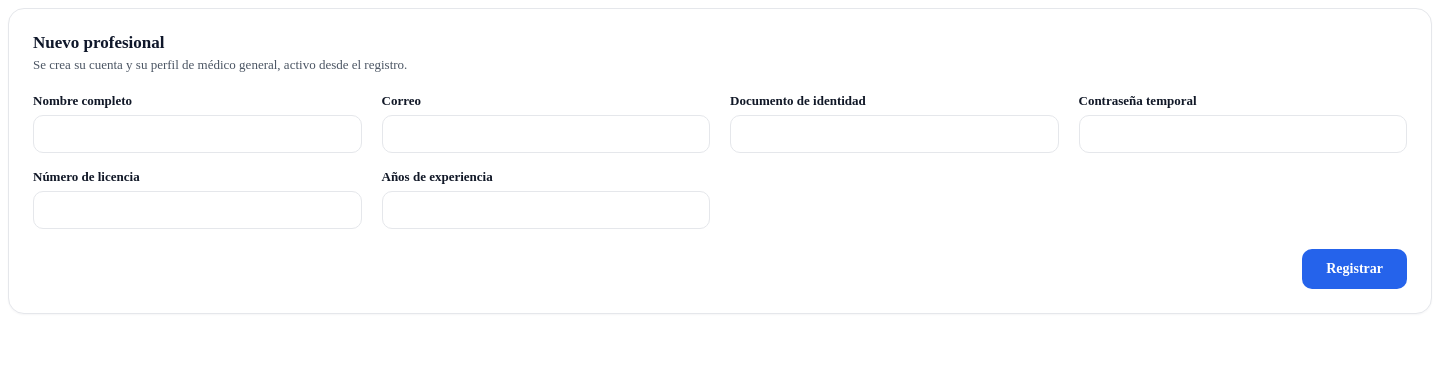
Test: RegisterProfessionalFormComponent › shows a conflict or an unavailable identity service with its reference
Type "Ana Gómez" into the field labelled "Nombre completo" at [197, 134], box [33,115,362,153]
Type "ana@telemed.test" into the field labelled "Correo" at [546, 134], box [382,115,710,153]
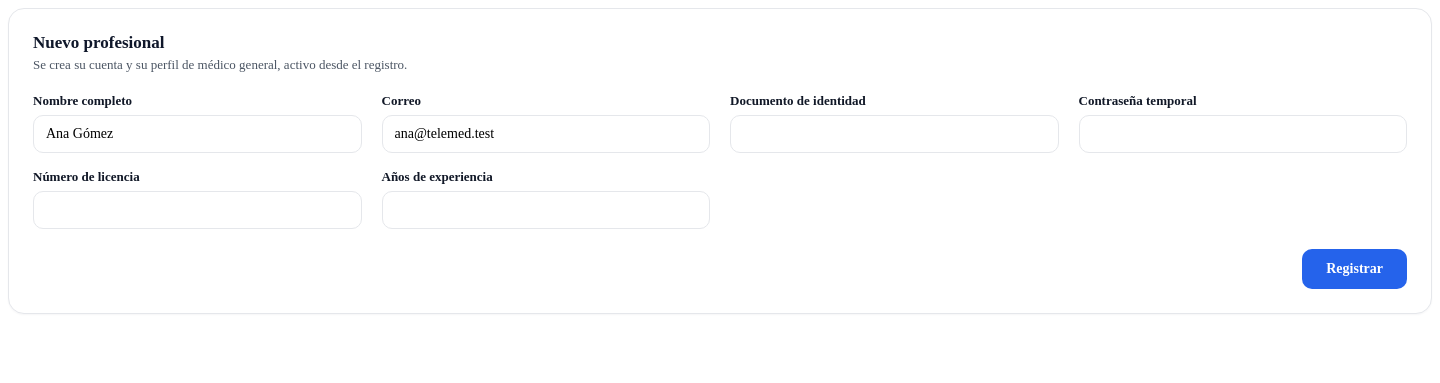
Type "1075000001" into the field labelled "Documento de identidad" at [894, 134], box [730,115,1058,153]
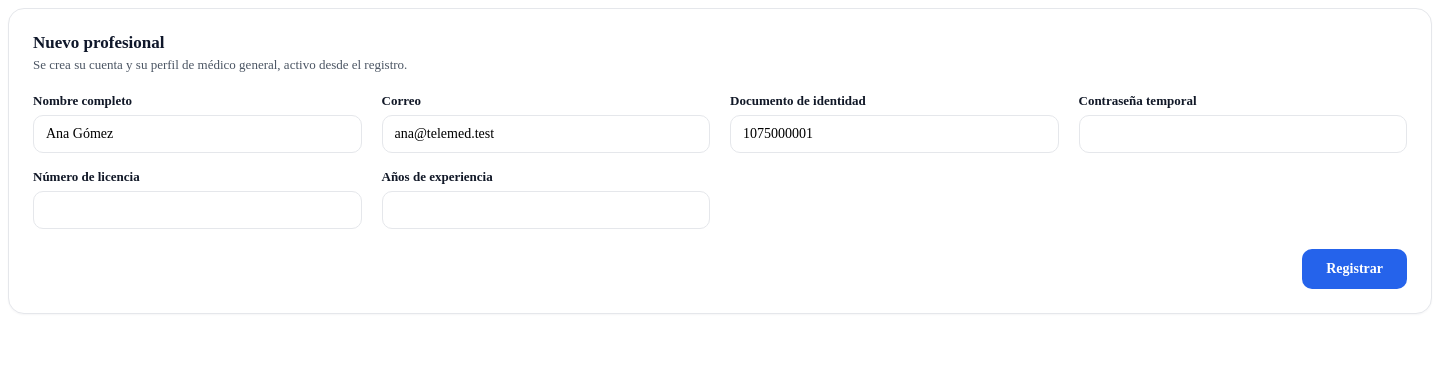
Type "temporary-pass-1" into the password field labelled "Contraseña temporal" at [1243, 134], box [1078,115,1407,153]
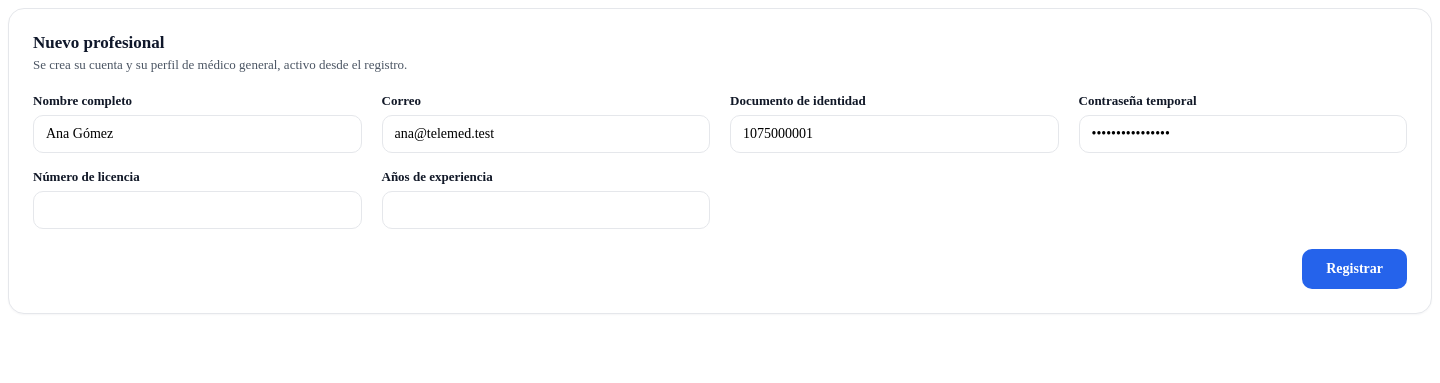
Type "RM-12345" into the field labelled "Número de licencia" at [197, 210], box [33,191,362,229]
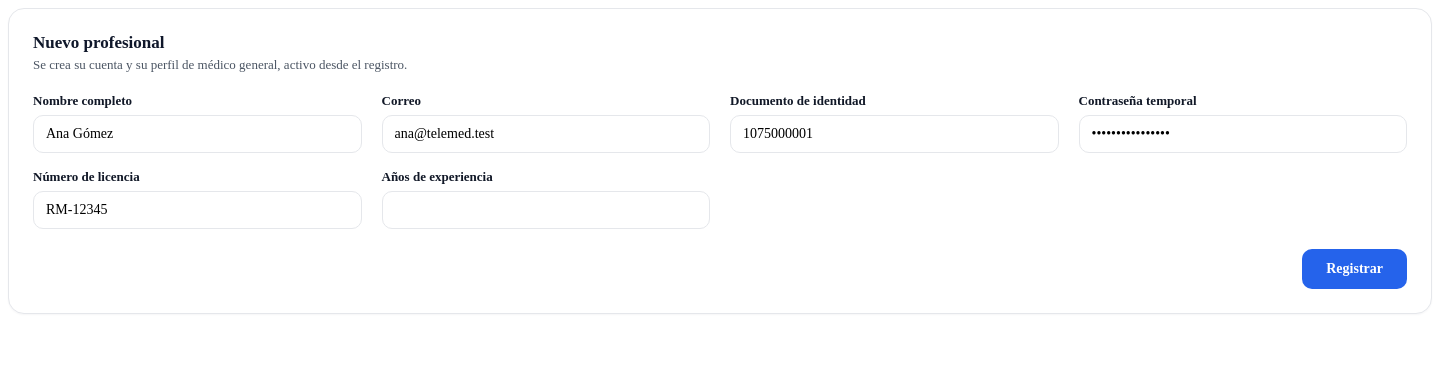
Type "7" into the field labelled "Años de experiencia" at [546, 210], box [382,191,710,229]
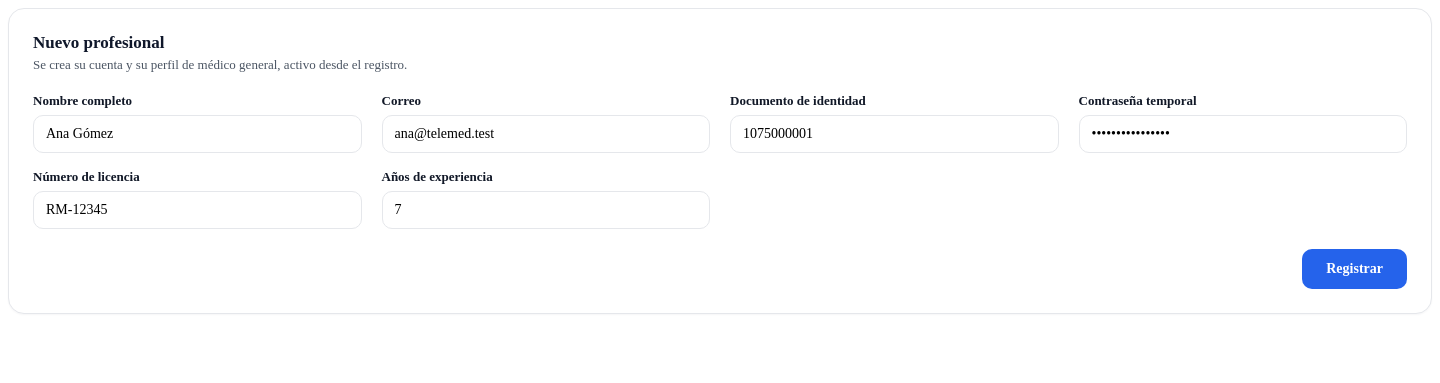
Submit the form
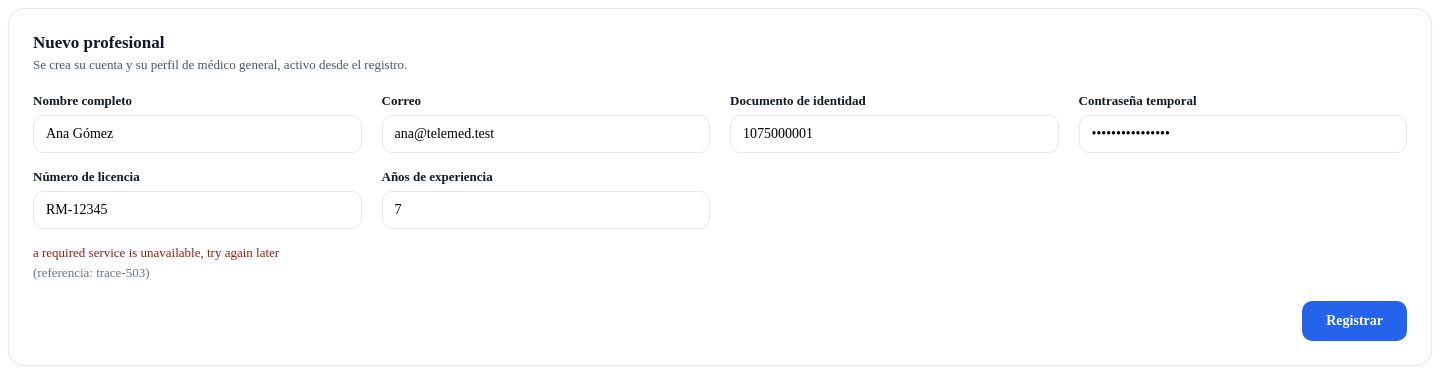
expect the message with test id "register-error" shows "a required service is unavailable, try again later": met, box [33,245,279,260]
expect the message with test id "register-error" shows "trace-503": met, box [33,265,150,280]
